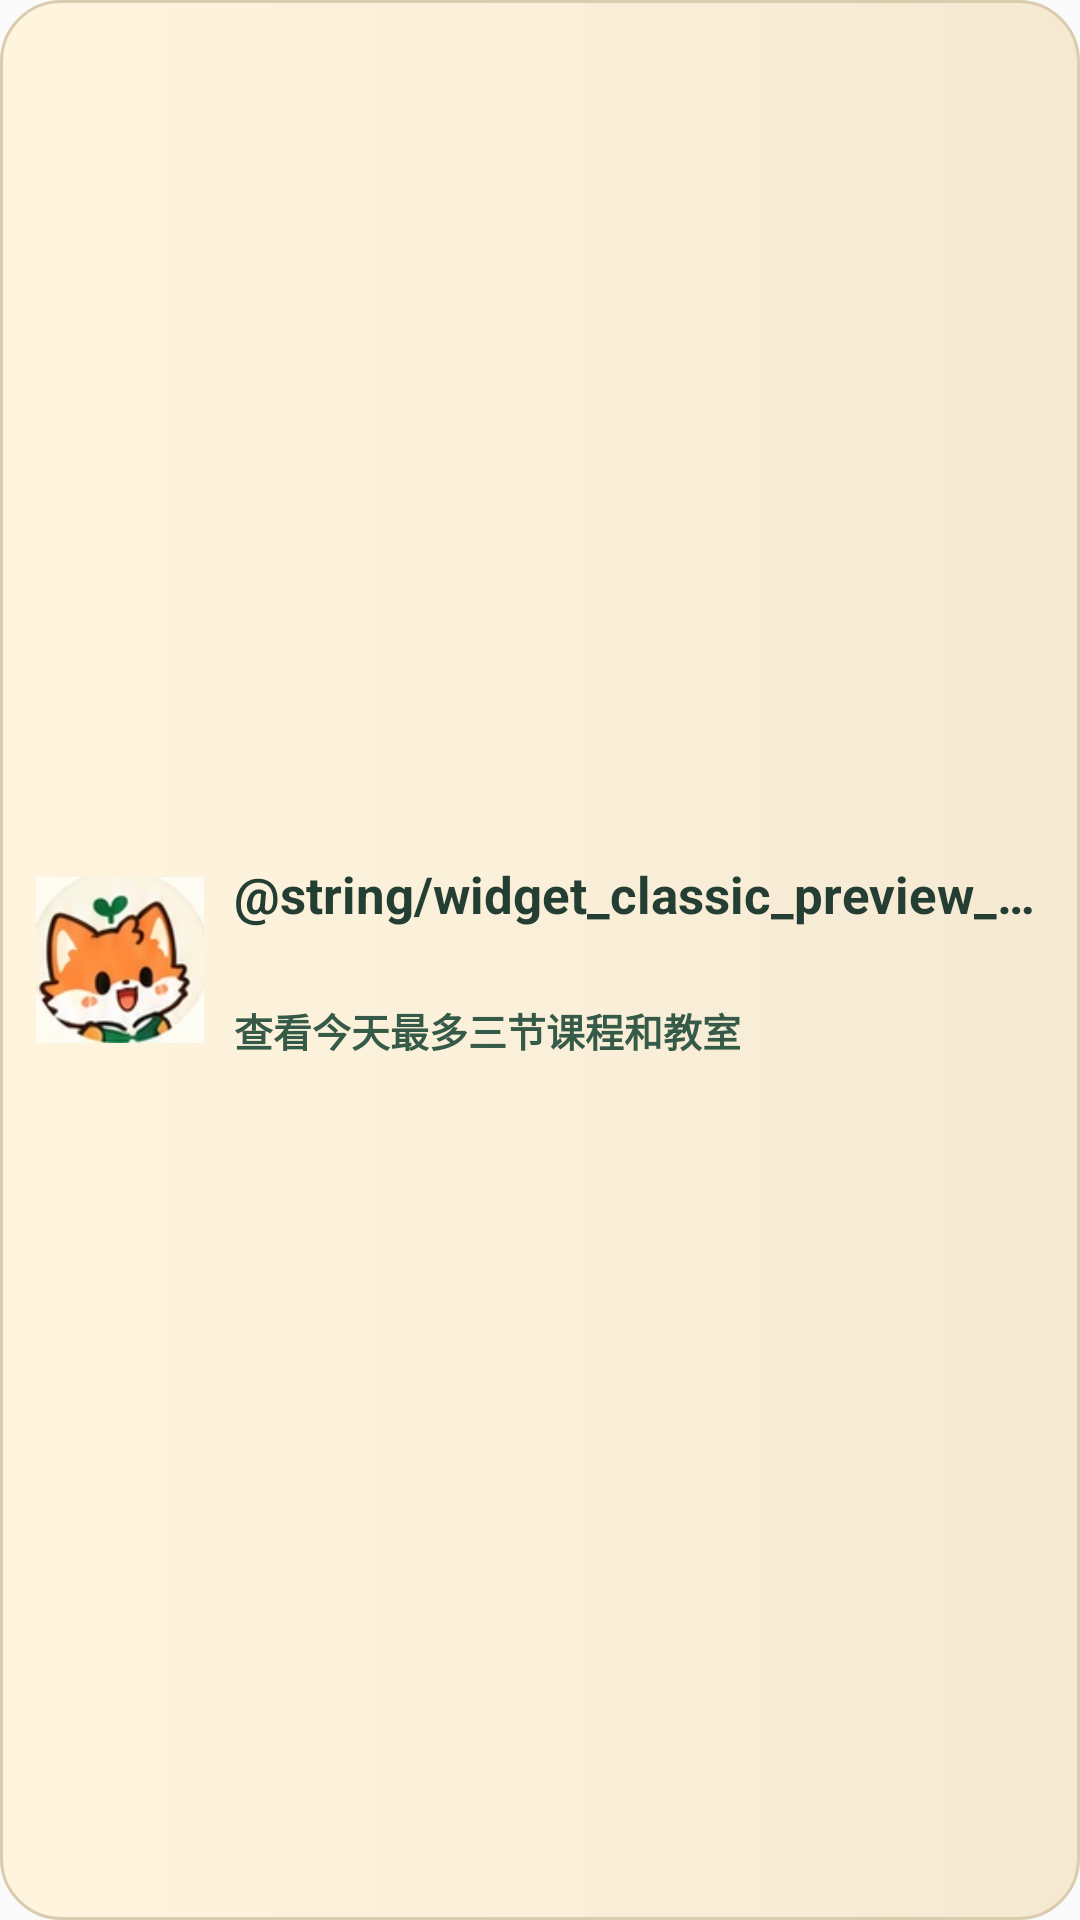

Where icons sit on this 1080*1920 app screen, as BBox(x1, y1, x2, y2):
widget classic fox: BBox(36, 895, 203, 1043)
